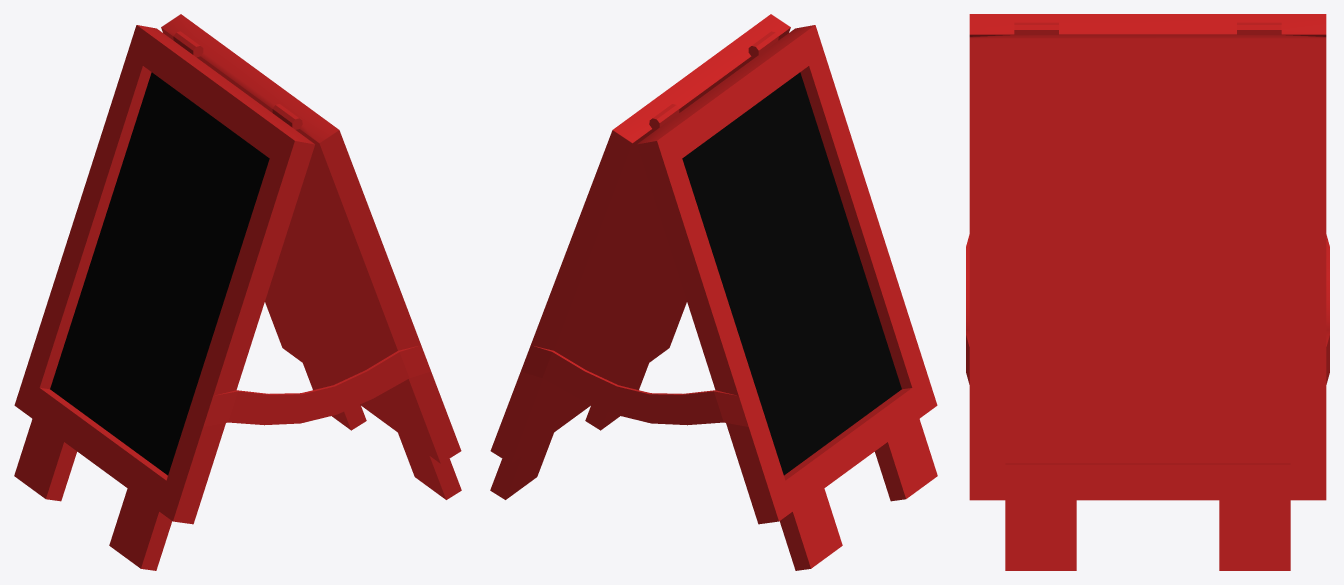
The model's file is FABanner.fbx.
3 renders of one model, left to right at view 1: azimuth 30°, elevation 25°; view 2: azimuth 150°, elevation 25°; view 3: azimuth 270°, elevation 25°, orthographic. The views are drawn at different scales.
Parts seen in each view (by area): view 1: FABanner; view 2: FABanner; view 3: FABanner.
Part boxes in pixels (x1=…): FABanner: x1=14, y1=14, x2=461, y2=570; FABanner: x1=490, y1=14, x2=937, y2=570; FABanner: x1=966, y1=14, x2=1329, y2=570.
Bounding box in the file's own units: 117 × 144 × 102.
